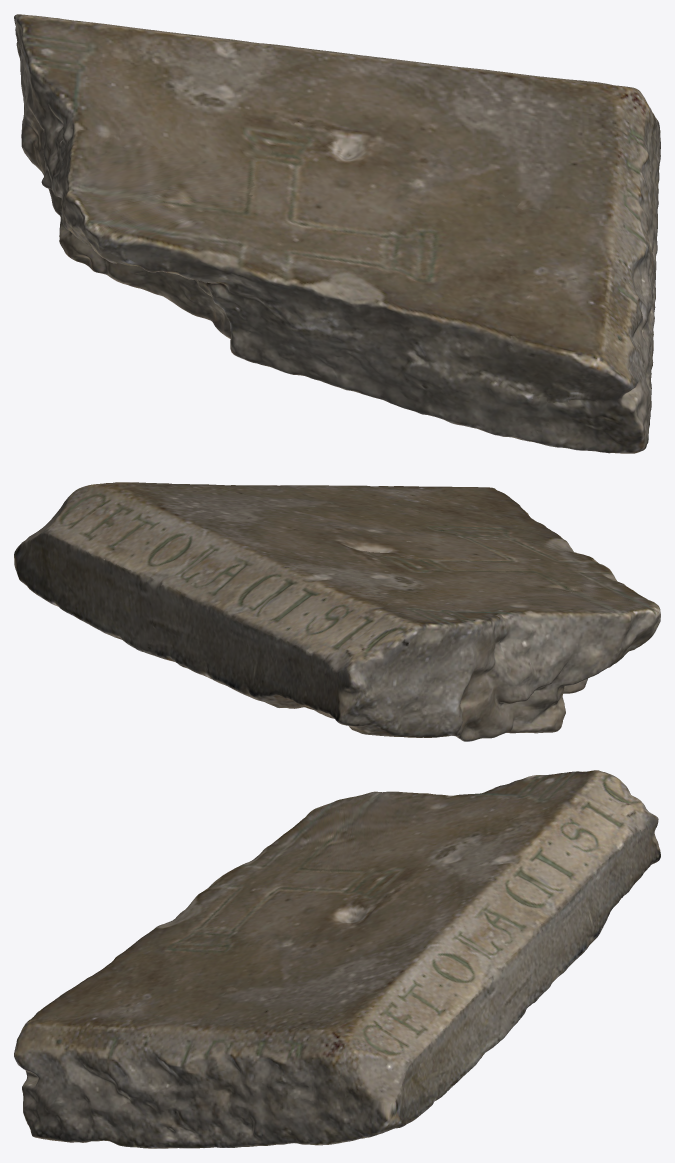
Rendered from Tombstone1.glb.
3 views of the same model, one above another, from view 1: azimuth 30°, elevation 25°; view 2: azimuth 150°, elevation 25°; view 3: azimuth 270°, elevation 25° (orthographic). The views are drawn at different scales.
Visible parts, largest first — view 1: object; view 2: object; view 3: object.
Boxes of the visible parts, bbox=[...] form: object: bbox=[14, 14, 660, 453]; object: bbox=[14, 482, 660, 741]; object: bbox=[14, 770, 660, 1148].
Bounding box in the file's own units: 476 × 209 × 504.
Materials: 1 (1 with a texture image).
